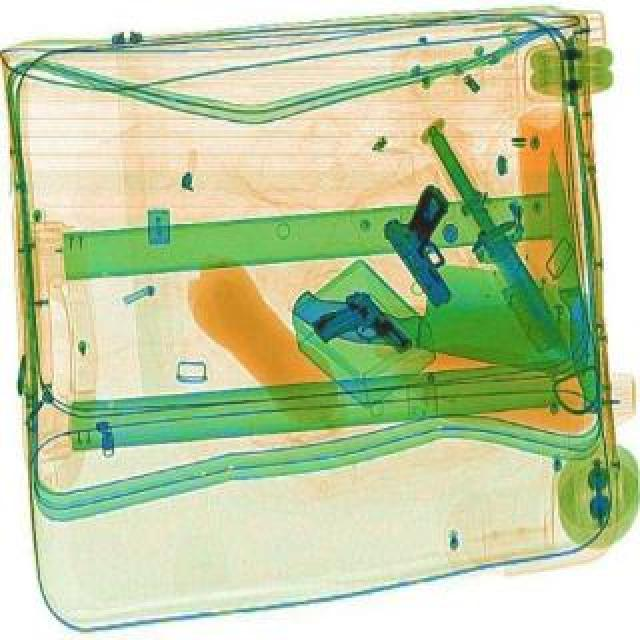gun: (370, 186, 500, 314), (306, 290, 414, 390)
knife: (286, 240, 604, 384), (418, 130, 578, 368), (536, 150, 604, 414)
